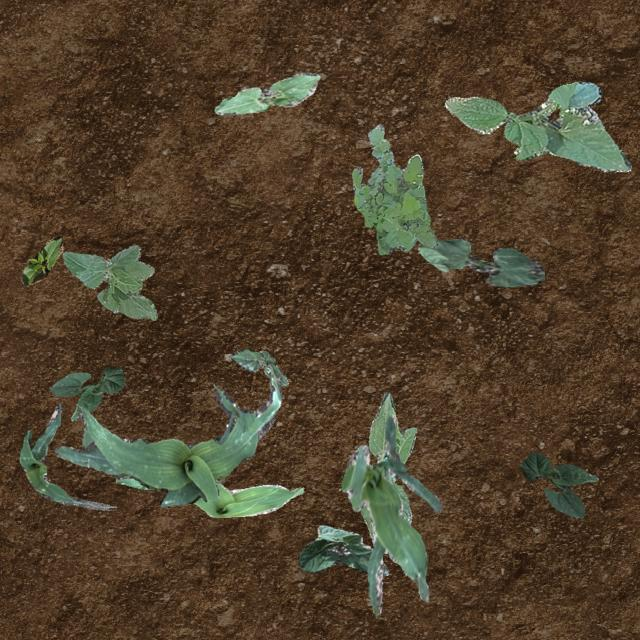crop: (54, 366, 280, 506), (341, 414, 442, 616), (444, 80, 630, 170), (18, 402, 112, 510), (360, 390, 416, 540), (115, 474, 302, 516), (62, 244, 156, 320), (416, 238, 544, 286), (518, 452, 598, 518), (298, 524, 388, 574), (214, 72, 318, 115), (50, 366, 124, 419), (230, 348, 288, 386), (20, 236, 64, 286)
weed: (351, 122, 436, 254)
